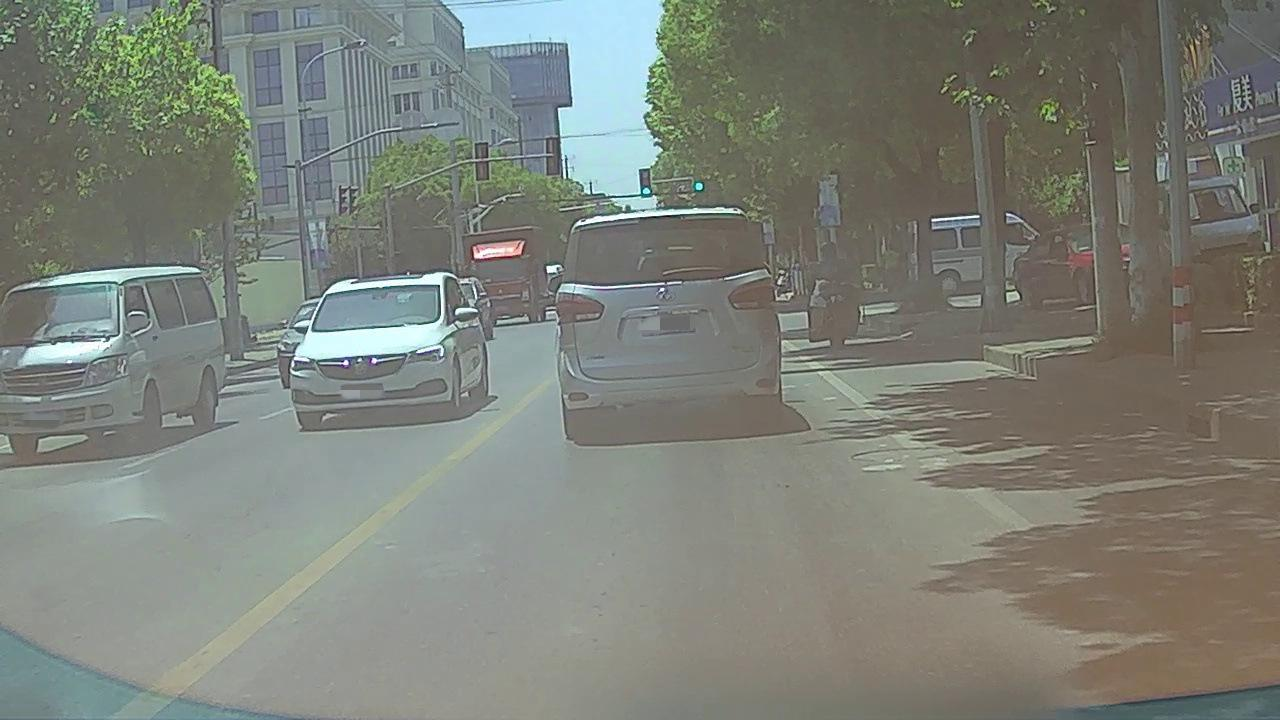traffic_light: (641, 169, 651, 196), (695, 166, 703, 191)
